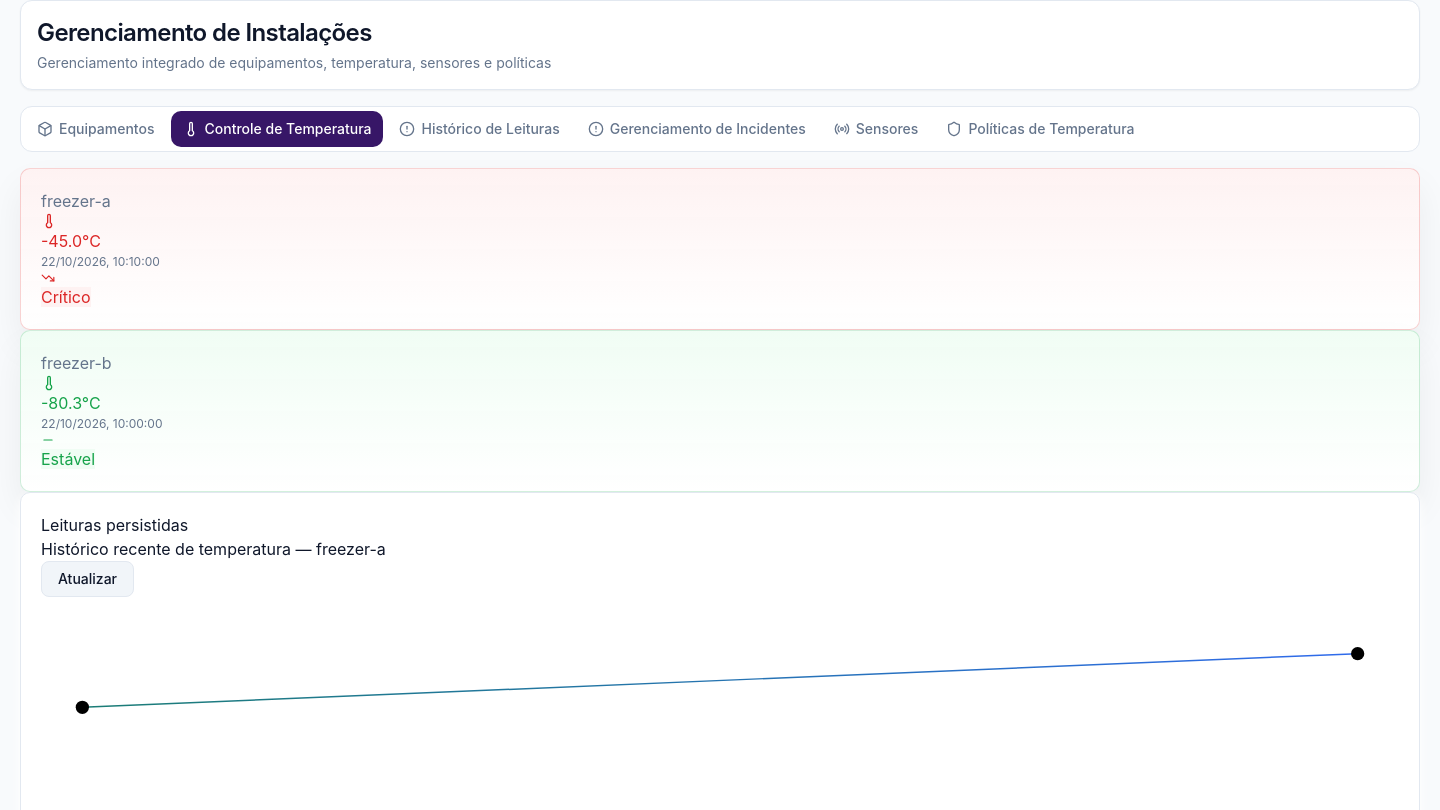
Test: FacilityManagementPage persisted temperature readings (#1397, RF009 AC7) › Atualizar re-reads the readings
The width and height of the screenshot is (1440, 810).
Expected: the element with test id "temperature-sensor-card-freezer-a" shows "-45.0°C", left=20, top=168, right=1420, bottom=330
Click the button with test id "temperature-readings-refresh": (88, 579) left=41, top=561, right=134, bottom=597
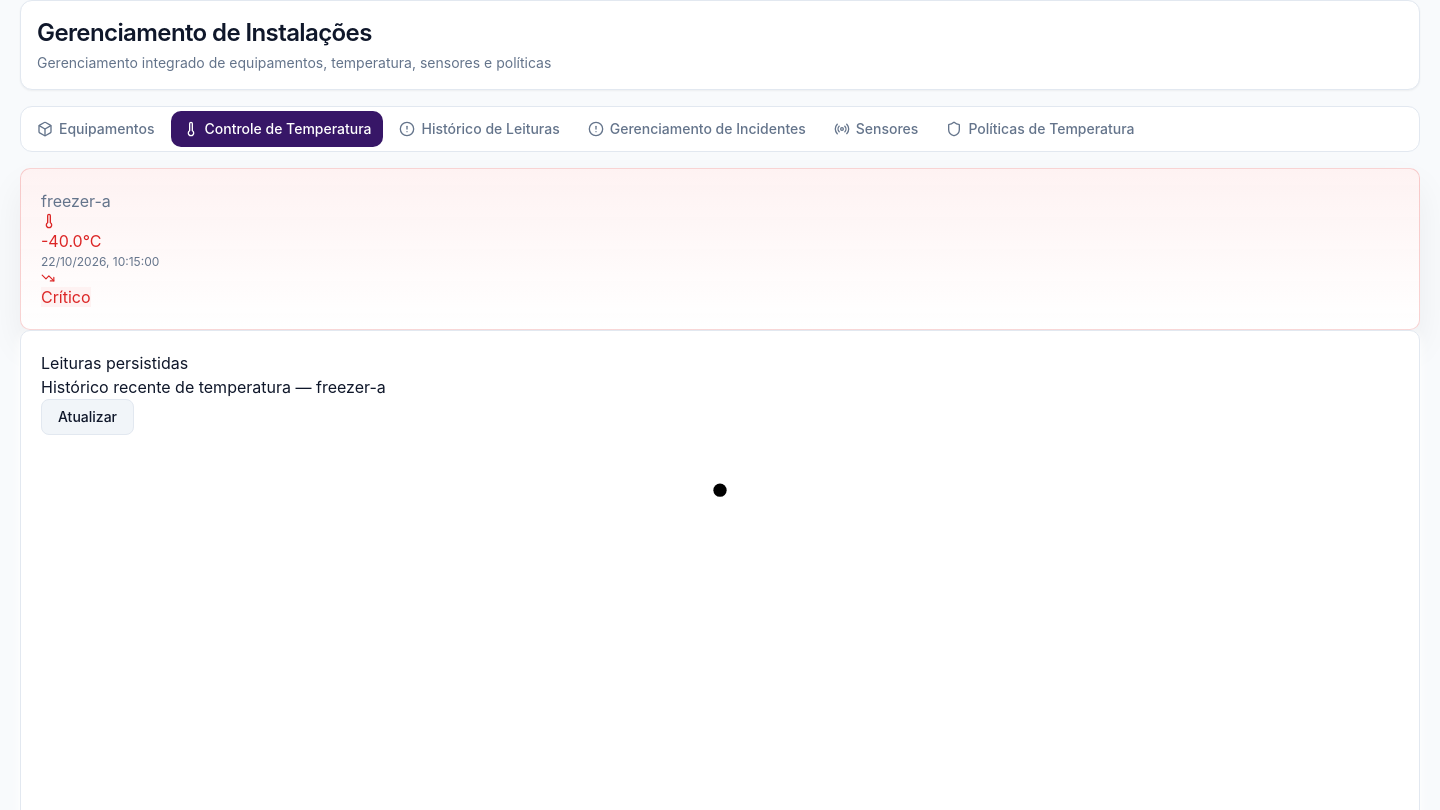
Expected: the element with test id "temperature-sensor-card-freezer-a" shows "-40.0°C", left=20, top=168, right=1420, bottom=330
